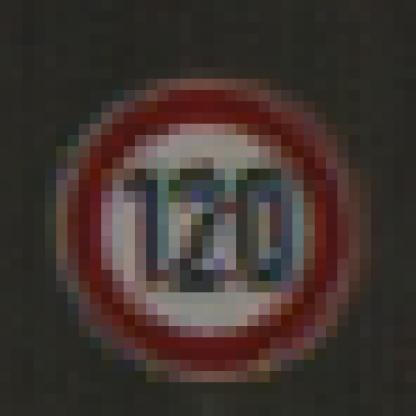Speed Limit 120: (76, 88, 350, 372)
